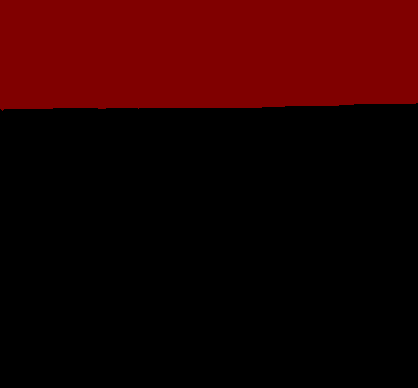Sky: (1, 1, 417, 387)
